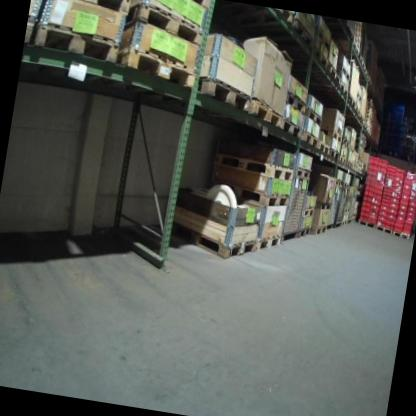pallet: (29, 20, 122, 67), (165, 219, 258, 264), (124, 0, 208, 48), (114, 43, 199, 90), (213, 149, 296, 182), (208, 178, 290, 210), (195, 72, 255, 113), (48, 0, 131, 16), (245, 96, 286, 128), (288, 17, 317, 48), (254, 228, 281, 257), (282, 89, 308, 115), (279, 117, 304, 139), (311, 47, 330, 70), (269, 7, 293, 25), (302, 106, 323, 126), (299, 130, 320, 148), (325, 64, 343, 85), (318, 127, 342, 142), (316, 139, 332, 157), (296, 224, 311, 241), (310, 224, 327, 238), (293, 167, 311, 180), (335, 81, 349, 97), (374, 224, 394, 235), (338, 65, 351, 81), (356, 219, 376, 229), (301, 205, 315, 219), (391, 230, 410, 240), (314, 200, 331, 211), (345, 95, 357, 109), (358, 58, 368, 73), (328, 148, 339, 160), (337, 154, 347, 165), (340, 139, 350, 148), (355, 91, 362, 102), (343, 206, 350, 215), (348, 145, 355, 154), (345, 160, 352, 168), (350, 163, 357, 171), (346, 194, 353, 201), (341, 182, 349, 188), (341, 219, 347, 227), (335, 179, 341, 186), (351, 212, 356, 218), (354, 185, 358, 190)
stillage: (277, 172, 313, 246), (321, 180, 342, 231), (331, 182, 352, 231), (346, 186, 359, 226)
